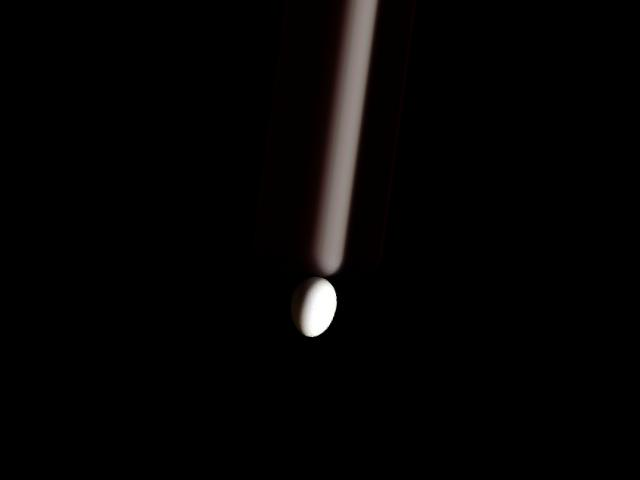egg: (287, 273, 340, 339)
